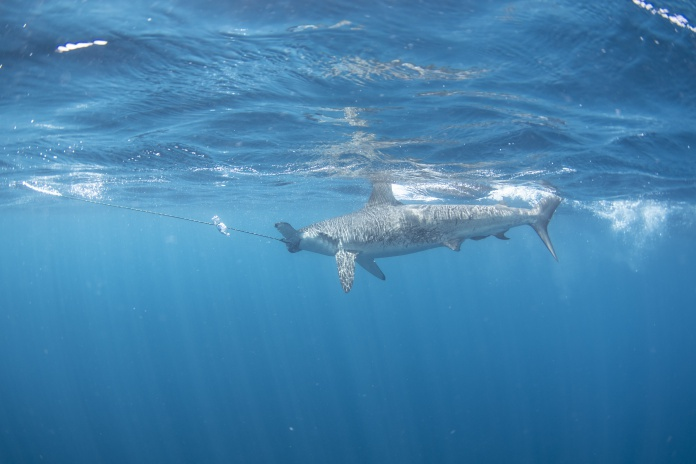Hammer: (266, 158, 572, 307)
